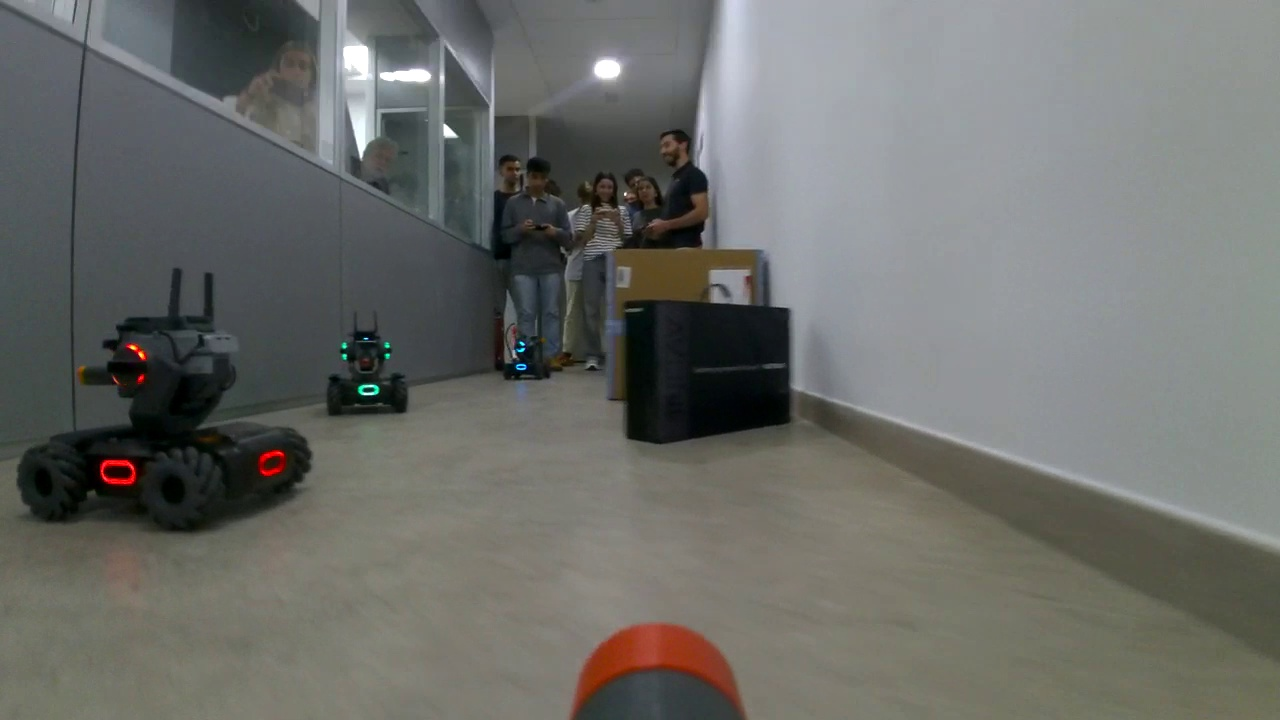robot: (20, 313, 319, 537), (324, 335, 411, 413), (502, 335, 555, 385)
